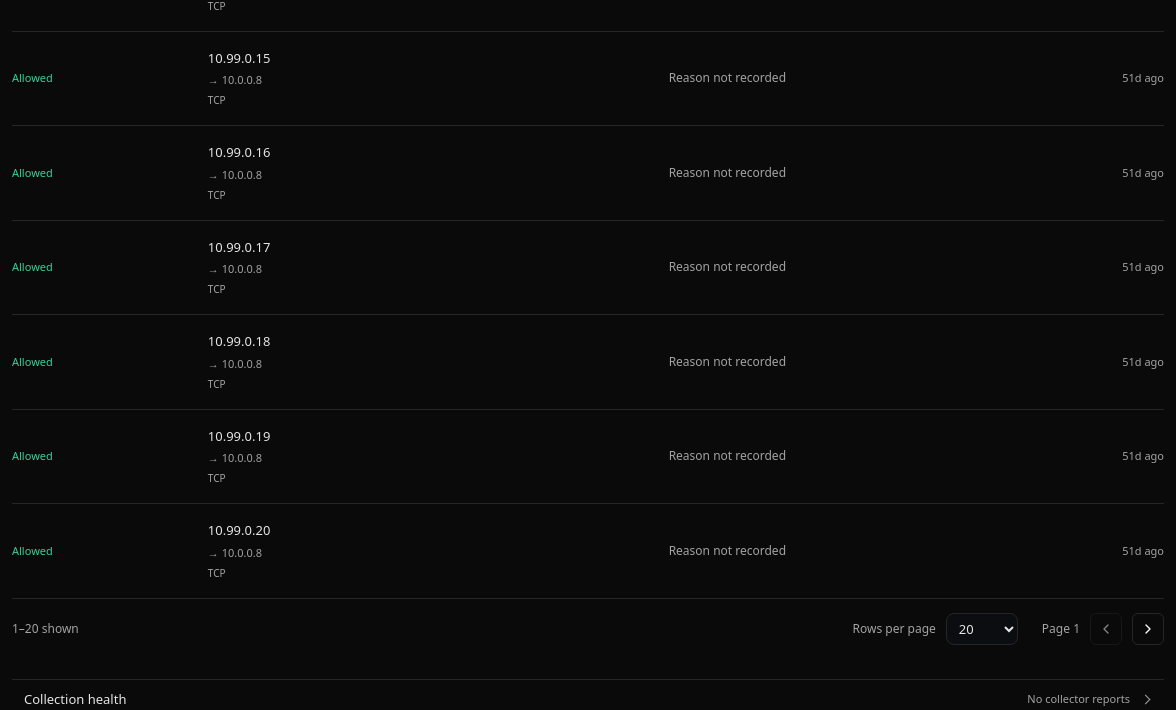
Test: Access event keyset pages › resets the paired keyset for real page-size and outcome-filter requests
(page scrolled)
Click the button named "Next page" at (1148, 628), box [1132,612,1164,644]
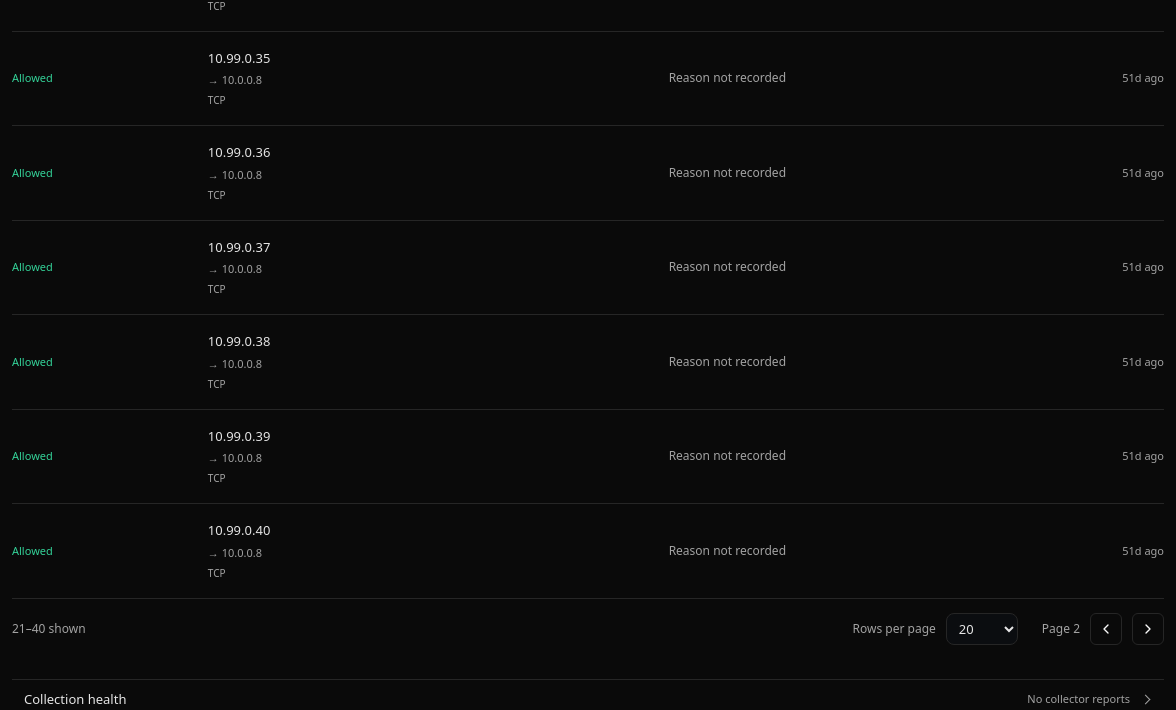
Check: the text "Page 2" is shown, box [1042,620,1080,638]
Select "10" in the dropdown named "Rows per page" at (982, 628), box [946,612,1018,644]
(page scrolled)
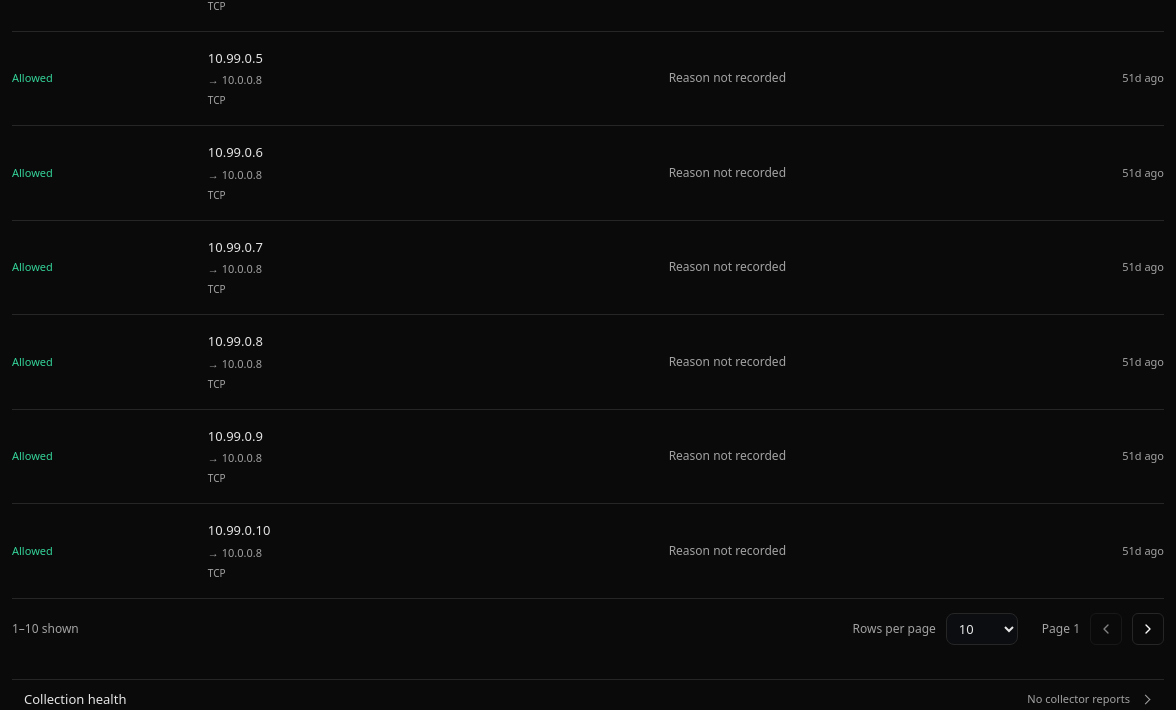
Check: the number of rows is 11
Click the button named "Next page" at (1148, 628), box [1132,612,1164,644]
(page scrolled)
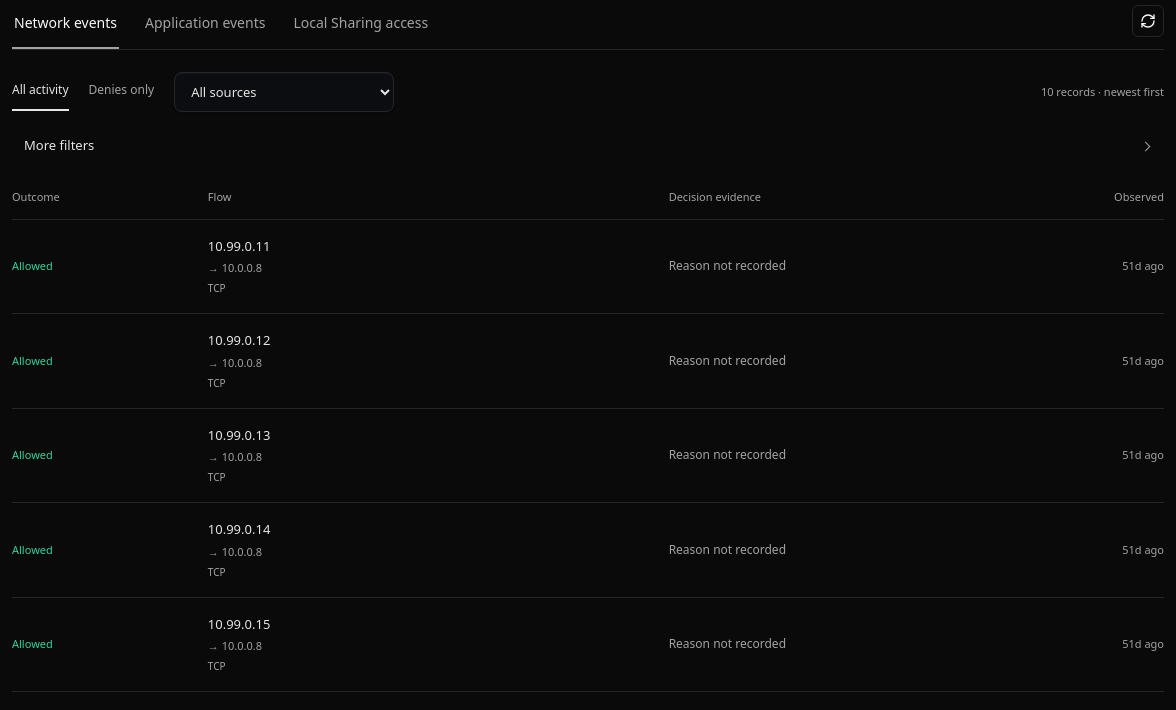
Click the button "Denies only" at (121, 92), box [88,73,154,111]
(page scrolled)
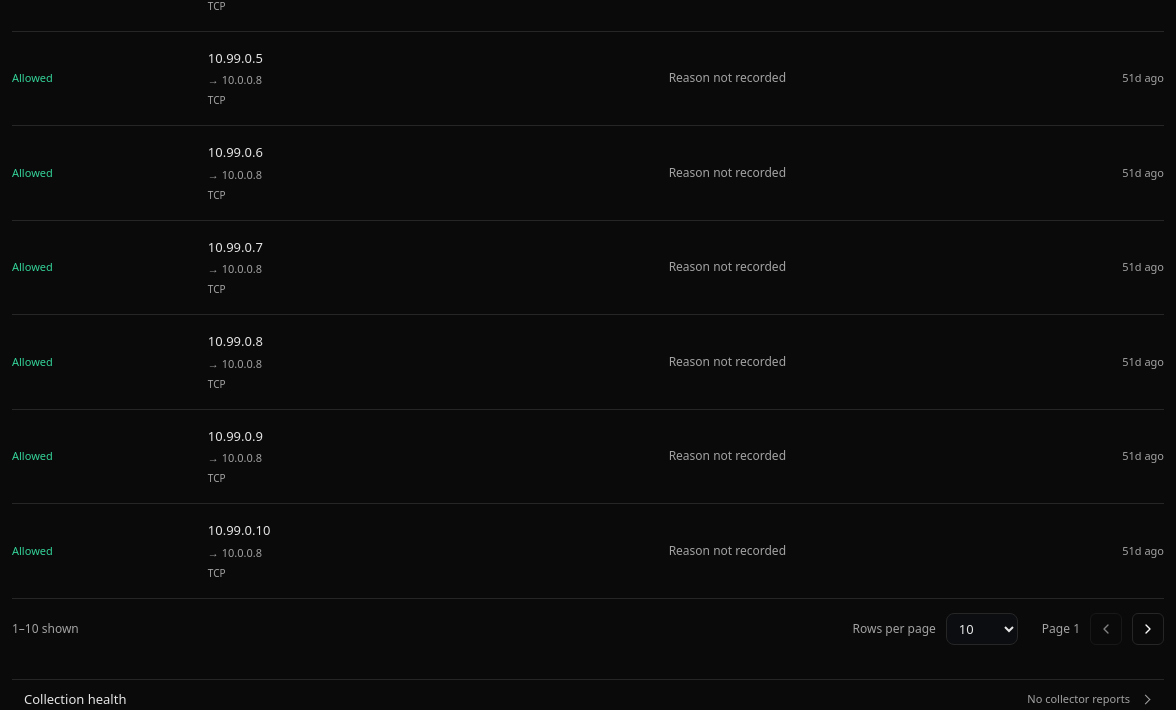
Check: the text "Page 1" is shown, box [1042,620,1080,638]
